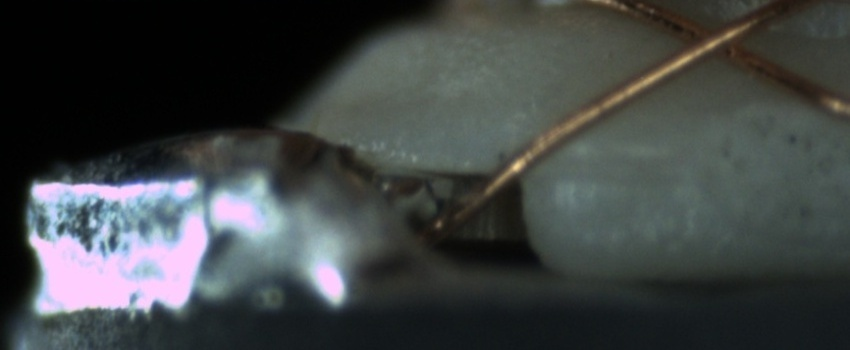CL: (662, 8, 769, 75)
DL: (543, 134, 684, 200)
